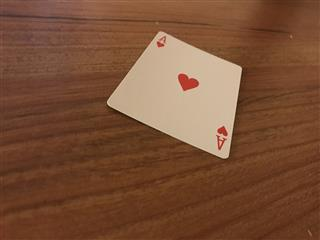AceOfHearts: (105, 30, 242, 159)
